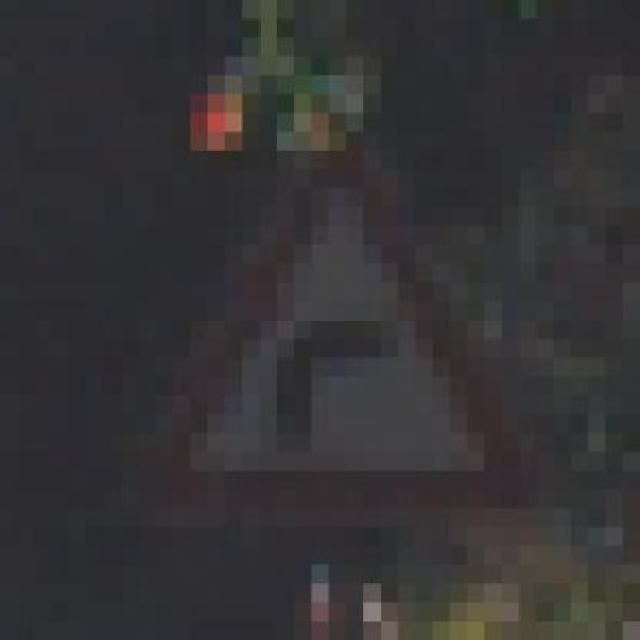Dangerous Rright Curve Ahead: (103, 131, 554, 527)
